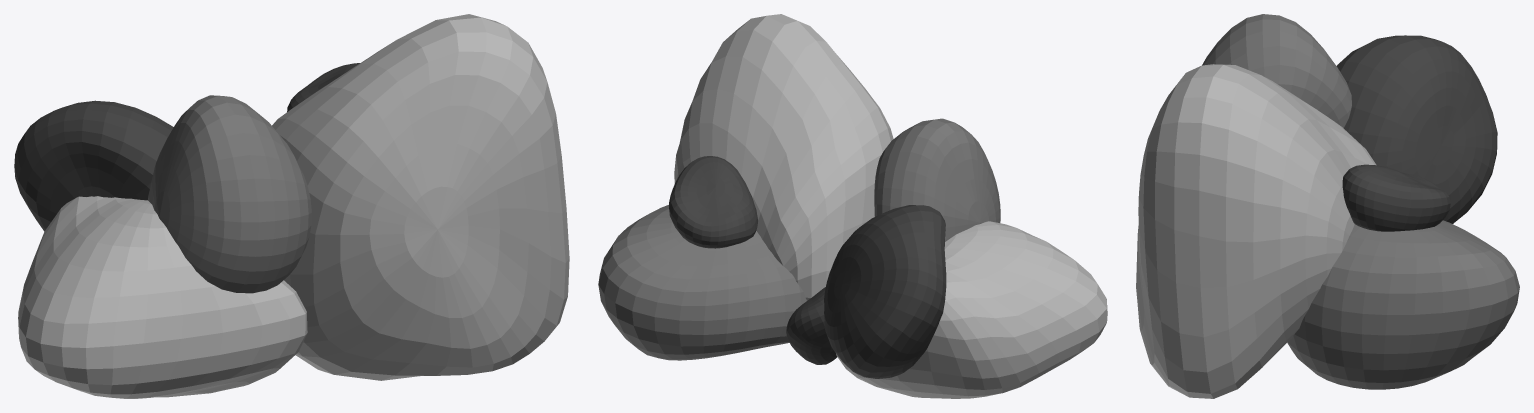
File: rocks.gltf
The picture shows the model from 3 angles, left to right: view 1: azimuth 30°, elevation 25°; view 2: azimuth 150°, elevation 25°; view 3: azimuth 270°, elevation 25°; orthographic projection. The views are drawn at different scales.
Visible parts, largest first — view 1: Rocks.002; view 2: Rocks.002; view 3: Rocks.002.
Part boxes in pixels (x1,y1,x2,y2): Rocks.002: (14,14,569,398); Rocks.002: (598,14,1107,398); Rocks.002: (1136,14,1519,398).
Size of the model in its own units: 0.7651 by 0.4993 by 0.5449.
Materials: 3 (3 with a texture image).
